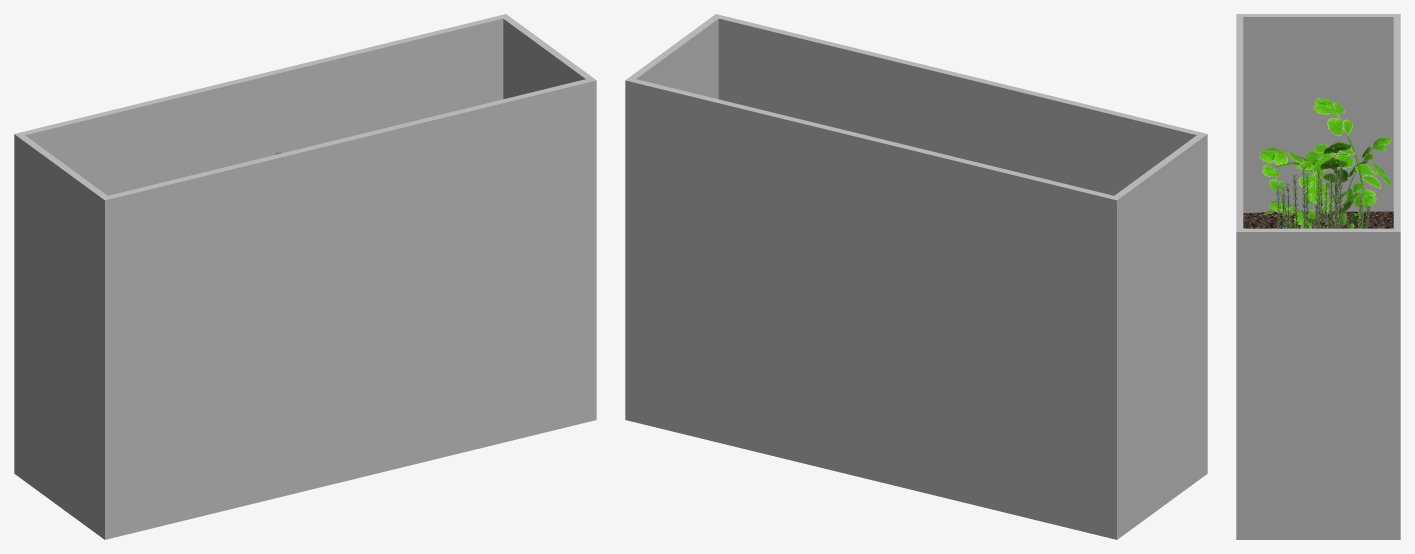
File: terrarium_basil_rosemary_and_coriander.glb
3 views of the same model, side by side, from view 1: azimuth 30°, elevation 25°; view 2: azimuth 150°, elevation 25°; view 3: azimuth 270°, elevation 25° (orthographic). The views are drawn at different scales.
Visible parts, largest first — view 1: Object_2; view 2: Object_2; view 3: Object_2, Object_8, Object_11, Object_3, Object_10, Object_9.
Part boxes in pixels (x1,y1,x2,y2): Object_2: [14, 14, 596, 539]; Object_2: [625, 14, 1207, 539]; Object_2: [1236, 14, 1400, 539]; Object_8: [1259, 98, 1391, 228]; Object_11: [1275, 162, 1370, 228]; Object_3: [1243, 211, 1393, 228]; Object_10: [1277, 166, 1369, 228]; Object_9: [1279, 173, 1357, 228].
Bounding box in the file's own units: 1.15 × 0.7611 × 0.3685.
Materials: 7 (5 with a texture image).
